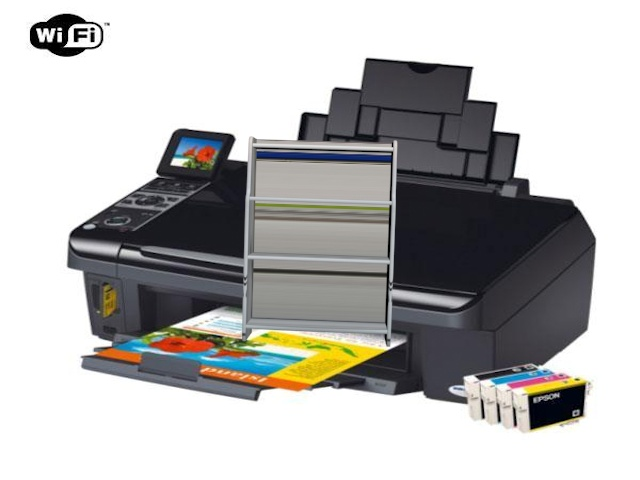bookcase: (240, 129, 401, 352)
